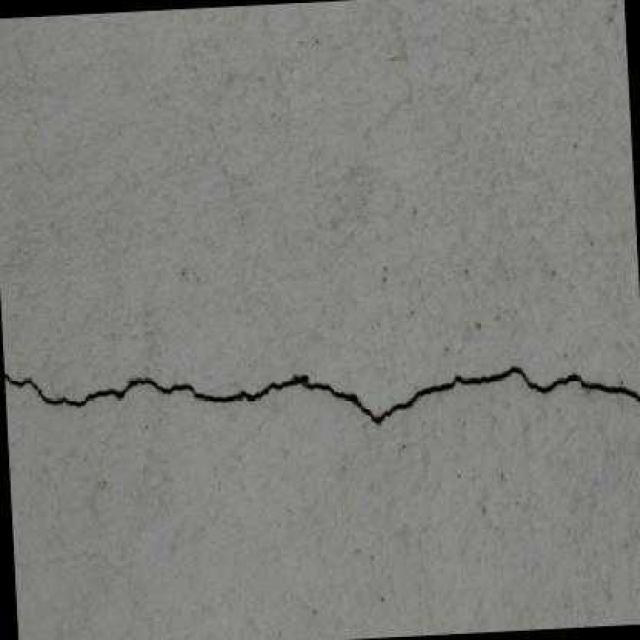D00: (2, 362, 640, 425)
